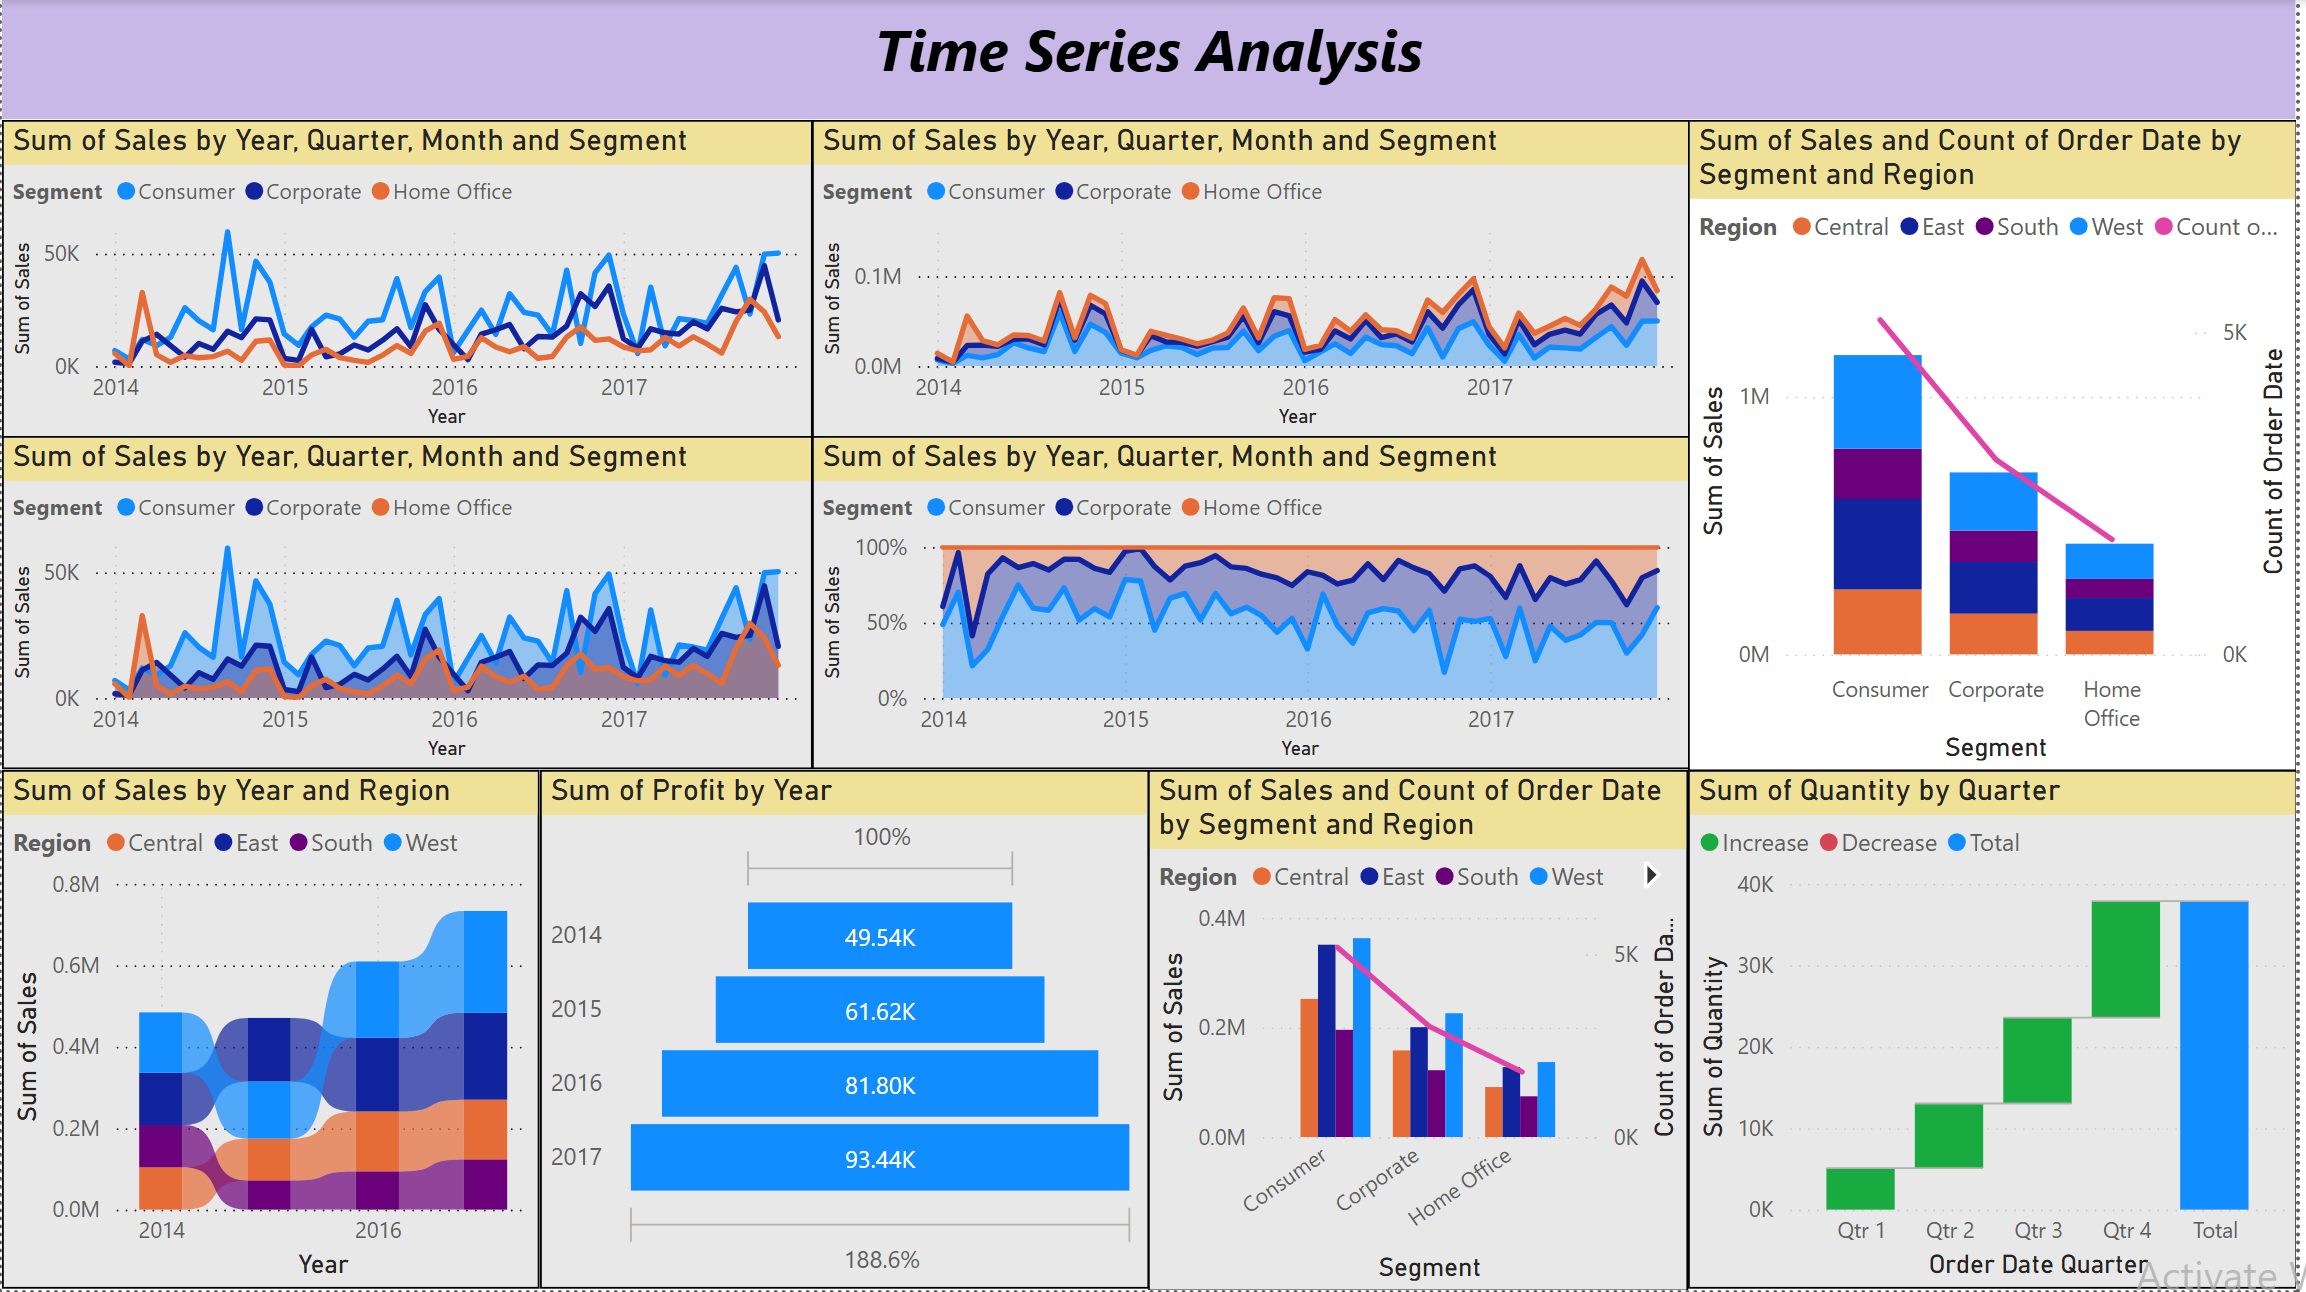

The dashboard page shown, as its layout file describes it:
{"tool":"powerbi","page":{"name":"Time series","canvas":[1280,720],"ordinal":5},"visuals":[{"type":"textbox","box":[0,0,1280,66.5],"z":0},{"type":"lineChart","fields":{"Category":["Superstore.Order Date.Variation.Date Hierarchy.Year","Superstore.Order Date.Variation.Date Hierarchy.Quarter","Superstore.Order Date.Variation.Date Hierarchy.Month","Superstore.Order Date.Variation.Date Hierarchy.Day"],"Y":["Sum(Superstore.Sales)"],"Series":["Superstore.Segment"]},"box":[0,66.5,452.3,177.4],"z":1000},{"type":"stackedAreaChart","fields":{"Category":["Superstore.Order Date.Variation.Date Hierarchy.Year","Superstore.Order Date.Variation.Date Hierarchy.Quarter","Superstore.Order Date.Variation.Date Hierarchy.Month","Superstore.Order Date.Variation.Date Hierarchy.Day"],"Y":["Sum(Superstore.Sales)"],"Series":["Superstore.Segment"]},"box":[452.3,66.5,490.7,177.4],"z":2000},{"type":"areaChart","fields":{"Category":["Superstore.Order Date.Variation.Date Hierarchy.Year","Superstore.Order Date.Variation.Date Hierarchy.Quarter","Superstore.Order Date.Variation.Date Hierarchy.Month","Superstore.Order Date.Variation.Date Hierarchy.Day"],"Y":["Sum(Superstore.Sales)"],"Series":["Superstore.Segment"]},"box":[0,243.9,452.3,186.2],"z":3000},{"type":"hundredPercentStackedAreaChart","fields":{"Category":["Superstore.Order Date.Variation.Date Hierarchy.Year","Superstore.Order Date.Variation.Date Hierarchy.Quarter","Superstore.Order Date.Variation.Date Hierarchy.Month","Superstore.Order Date.Variation.Date Hierarchy.Day"],"Y":["Sum(Superstore.Sales)"],"Series":["Superstore.Segment"]},"box":[452.3,243.9,490.7,186.2],"z":4000},{"type":"lineStackedColumnComboChart","fields":{"Category":["Superstore.Segment"],"Y":["Sum(Superstore.Sales)"],"Series":["Superstore.Region"],"Y2":["CountNonNull(Superstore.Order Date)"]},"box":[941.5,66.5,340,363.6],"z":5000},{"type":"lineClusteredColumnComboChart","fields":{"Category":["Superstore.Segment","Superstore.Order Date.Variation.Date Hierarchy.Year","Superstore.Order Date.Variation.Date Hierarchy.Quarter","Superstore.Order Date.Variation.Date Hierarchy.Month","Superstore.Order Date.Variation.Date Hierarchy.Day"],"Y":["Sum(Superstore.Sales)"],"Series":["Superstore.Region"],"Y2":["CountNonNull(Superstore.Order Date)"]},"box":[640,430.1,301.5,291.2],"z":6000},{"type":"ribbonChart","fields":{"Y":["Sum(Superstore.Sales)"],"Category":["Superstore.Order Date.Variation.Date Hierarchy.Year","Superstore.Order Date.Variation.Date Hierarchy.Quarter","Superstore.Order Date.Variation.Date Hierarchy.Month","Superstore.Order Date.Variation.Date Hierarchy.Day"],"Series":["Superstore.Region"]},"box":[0,430.1,300,289.7],"z":7000},{"type":"funnel","fields":{"Y":["Sum(Superstore.Profit)"],"Category":["Superstore.Order Date.Variation.Date Hierarchy.Year","Superstore.Order Date.Variation.Date Hierarchy.Quarter","Superstore.Order Date.Variation.Date Hierarchy.Month","Superstore.Order Date.Variation.Date Hierarchy.Day"]},"box":[300,430.1,340,289.7],"z":8000},{"type":"waterfallChart","fields":{"Category":["Superstore.Order Date.Variation.Date Hierarchy.Year","Superstore.Order Date.Variation.Date Hierarchy.Quarter","Superstore.Order Date.Variation.Date Hierarchy.Month","Superstore.Order Date.Variation.Date Hierarchy.Day"],"Y":["Sum(Superstore.Quantity)"]},"box":[941.5,430.1,340,289.7],"z":9000}]}

Visuals, with their boxes in screenshot pixels (x1, y1, x2, y2), scaled from the page's 1280x720 canvas onto the 2306x1292 screenshot:
textbox: box(0, 0, 2305, 119)
lineChart - Superstore.Order Date.Variation.Date Hierarchy.Year x Superstore.Order Date.Variation.Date Hierarchy.Quarter: box(0, 119, 815, 438)
stackedAreaChart - Superstore.Order Date.Variation.Date Hierarchy.Year x Superstore.Order Date.Variation.Date Hierarchy.Quarter: box(815, 119, 1699, 438)
areaChart - Superstore.Order Date.Variation.Date Hierarchy.Year x Superstore.Order Date.Variation.Date Hierarchy.Quarter: box(0, 438, 815, 772)
hundredPercentStackedAreaChart - Superstore.Order Date.Variation.Date Hierarchy.Year x Superstore.Order Date.Variation.Date Hierarchy.Quarter: box(815, 438, 1699, 772)
lineStackedColumnComboChart - Superstore.Segment x Sum(Superstore.Sales): box(1696, 119, 2305, 772)
lineClusteredColumnComboChart - Superstore.Segment x Superstore.Order Date.Variation.Date Hierarchy.Year: box(1153, 772, 1696, 1291)
ribbonChart - Sum(Superstore.Sales) x Superstore.Order Date.Variation.Date Hierarchy.Year: box(0, 772, 540, 1291)
funnel - Sum(Superstore.Profit) x Superstore.Order Date.Variation.Date Hierarchy.Year: box(540, 772, 1153, 1291)
waterfallChart - Superstore.Order Date.Variation.Date Hierarchy.Year x Superstore.Order Date.Variation.Date Hierarchy.Quarter: box(1696, 772, 2305, 1291)
